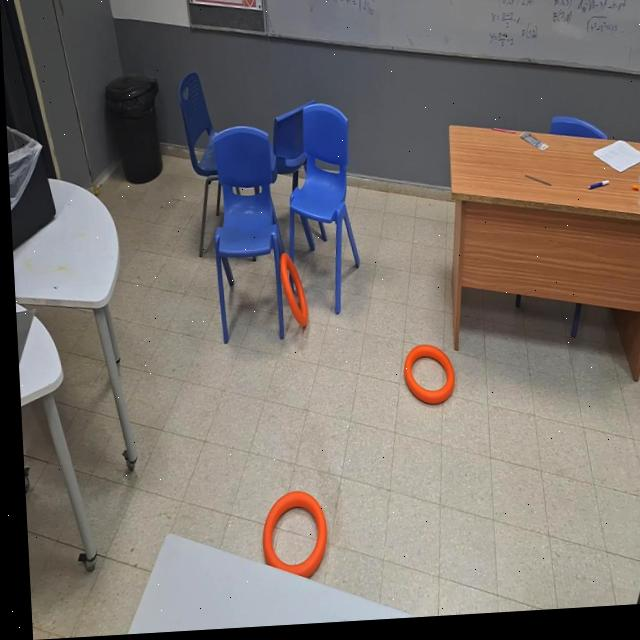note: (255, 492, 323, 584), (397, 347, 452, 412), (277, 255, 305, 332)
